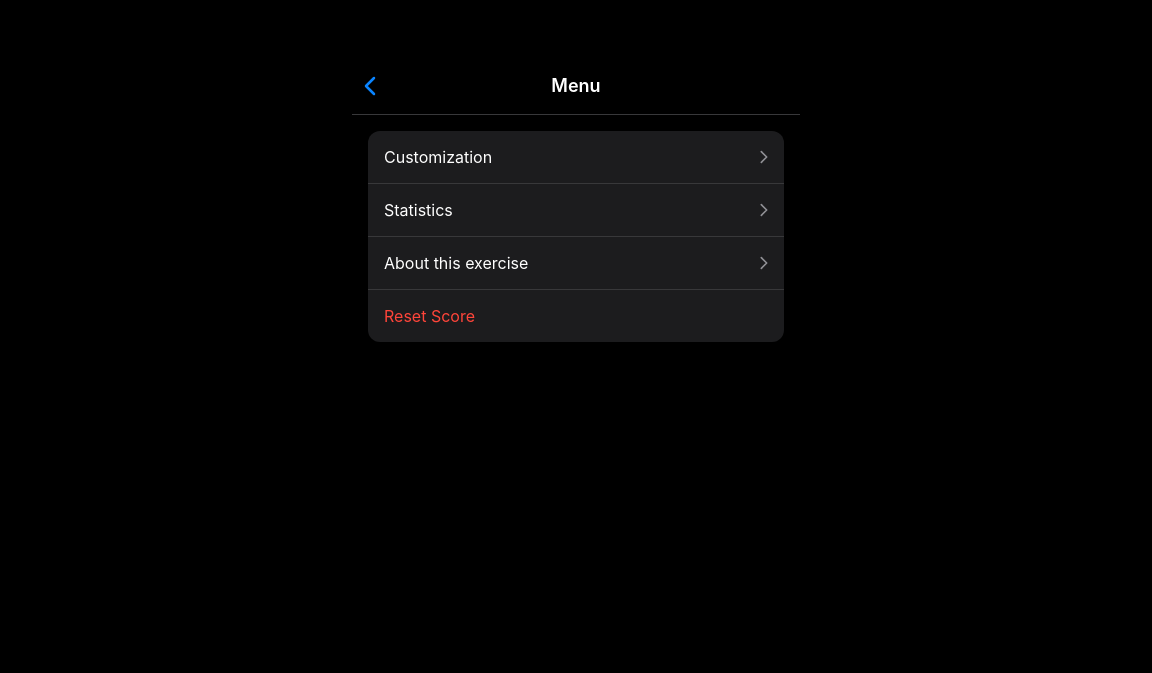
Test case: choosing chords › groups the chords by where they come from
Click the button "Customization" at (438, 157), box x1=368 y1=131 x2=784 y2=183
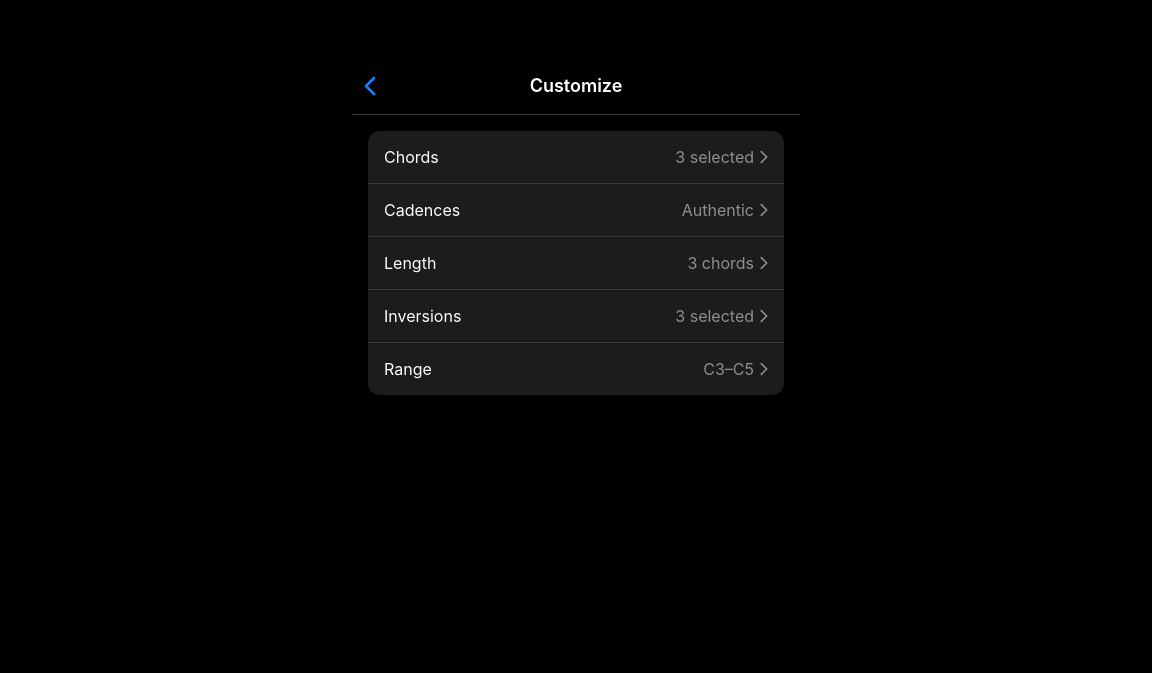
Click the button "Chords 3 selected" at (411, 157), box x1=368 y1=131 x2=784 y2=183
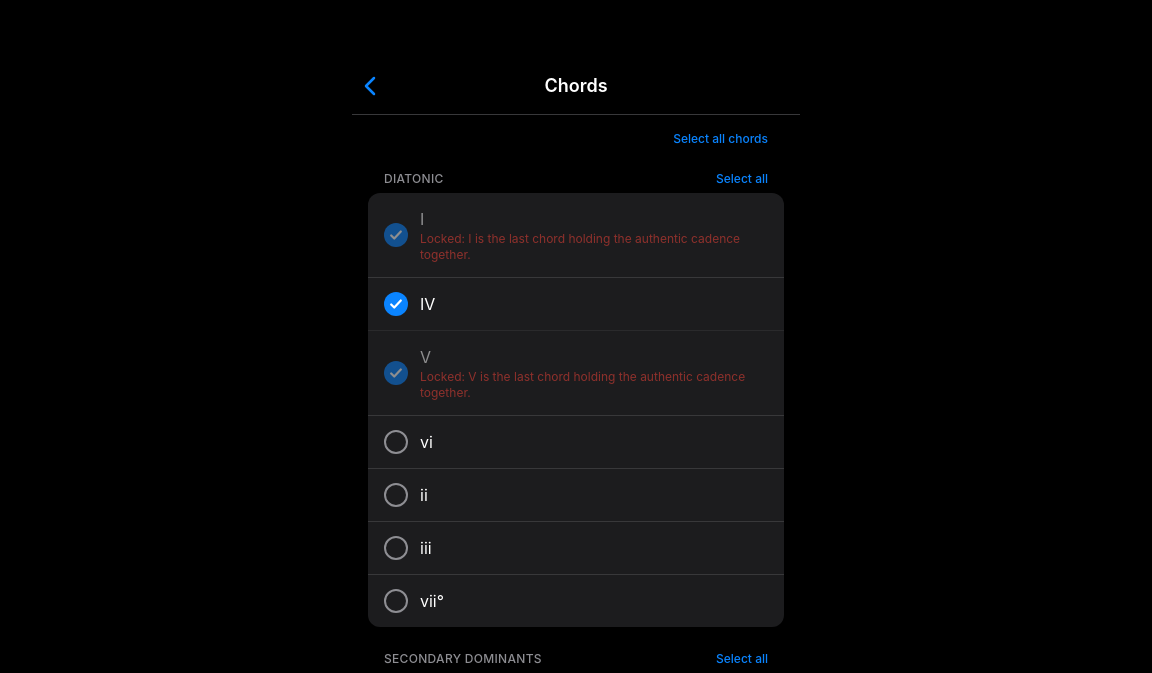
Expected: the heading "Chords" is shown, x1=544 y1=72 x2=608 y2=100
